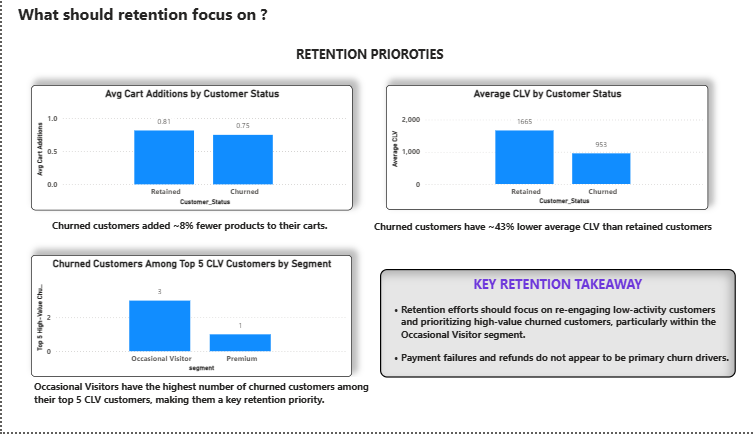

The page's visual inventory and layout, read from the dashboard file:
{"tool":"powerbi","page":{"name":"Retention priorities","canvas":[1280,720],"ordinal":2},"visuals":[{"type":"textbox","box":[16,0,436,56],"z":0},{"type":"textbox","box":[485,70,309.1,68.9],"z":1000},{"type":"lineClusteredColumnComboChart","title":"Avg Cart Additions by Customer Status","fields":{"Category":["customers.Customer_Status"],"Y":["customers.Avg Cart Additions"]},"box":[48.6,141.4,535.7,208.6],"z":2000},{"type":"lineClusteredColumnComboChart","title":"Average CLV by Customer Status","fields":{"Category":["customers.Customer_Status"],"Y":["customers.Average CLV"]},"box":[640,142,537,208],"z":3000},{"type":"textbox","box":[78.6,360,535.9,65.5],"z":4000},{"type":"textbox","box":[615,361.7,606.7,31.7],"z":5000},{"type":"lineStackedColumnComboChart","title":"Churned Customers Among Top 5 CLV Customers by Segment","fields":{"Category":["customers.segment"],"Y":["customers.Top 5 Customer Count"]},"box":[48.3,425,535,203.3],"z":6000},{"type":"textbox","box":[48,628,568,58],"z":7000},{"type":"textbox","box":[630,447.5,592.5,181.2],"z":8000}]}

Visuals, with their boxes in screenshot pixels (x1, y1, x2, y2), scaled from the page's 1280x720 canvas onto the 753x435 screenshot:
textbox: pyautogui.locateOnScreen(9, 0, 266, 34)
textbox: pyautogui.locateOnScreen(285, 42, 467, 84)
"Avg Cart Additions by Customer Status" lineClusteredColumnComboChart: pyautogui.locateOnScreen(29, 85, 344, 211)
"Average CLV by Customer Status" lineClusteredColumnComboChart: pyautogui.locateOnScreen(376, 86, 692, 211)
textbox: pyautogui.locateOnScreen(46, 218, 361, 257)
textbox: pyautogui.locateOnScreen(362, 219, 719, 238)
"Churned Customers Among Top 5 CLV Customers by Segment" lineStackedColumnComboChart: pyautogui.locateOnScreen(28, 257, 343, 380)
textbox: pyautogui.locateOnScreen(28, 379, 362, 414)
textbox: pyautogui.locateOnScreen(371, 270, 719, 380)
